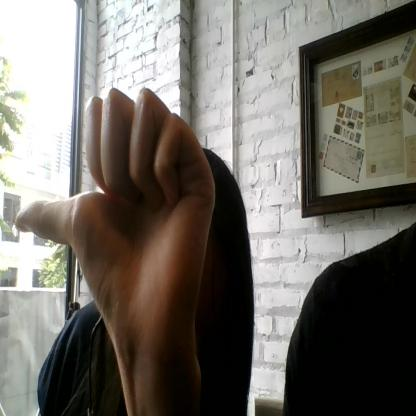right: (16, 86, 216, 308)
